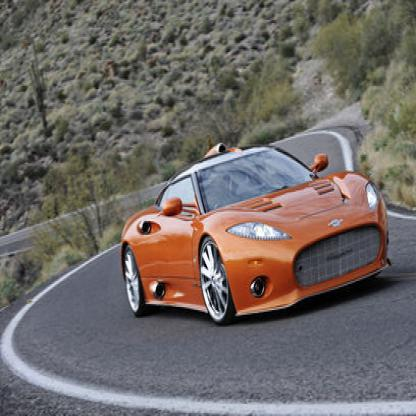Vehicle: (118, 142, 395, 322)
